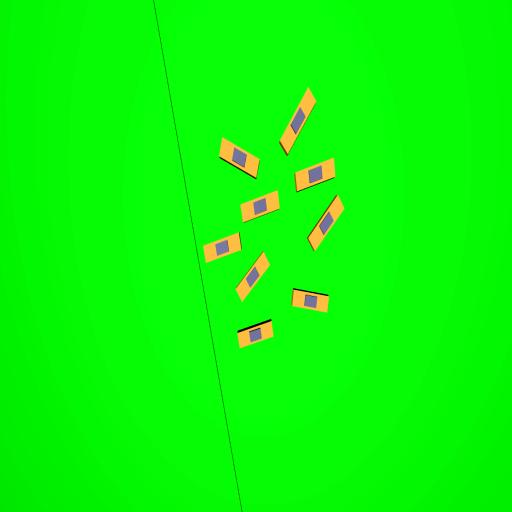objects: (236, 189, 284, 223)
